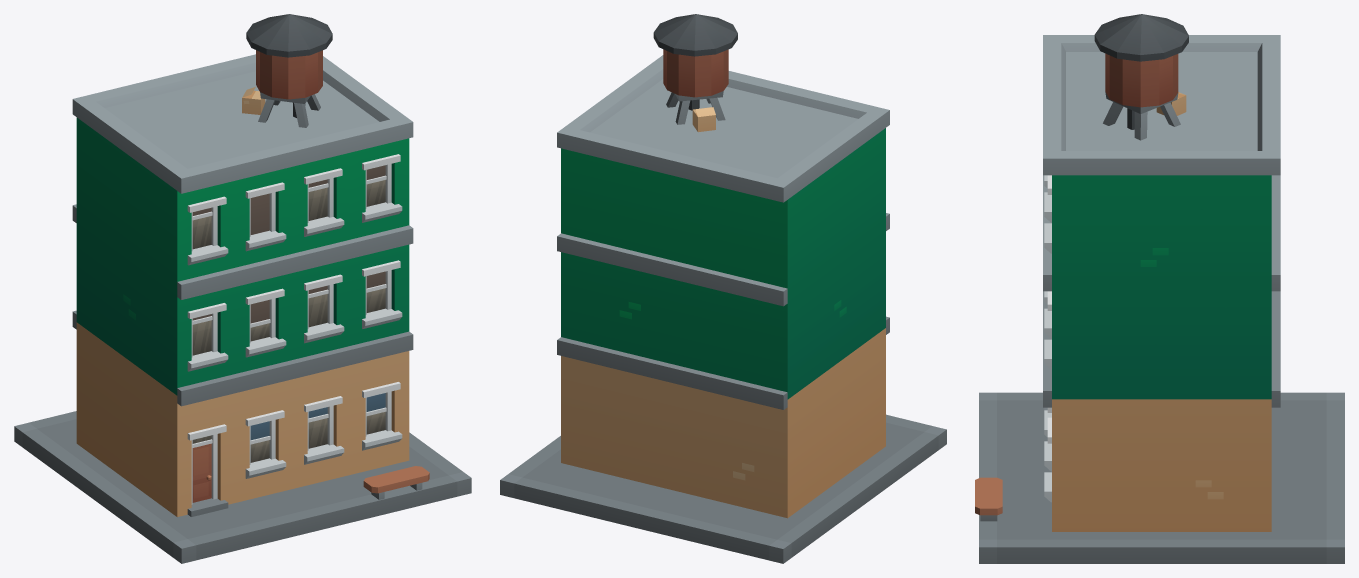
File: building_D.obj
The picture shows the model from 3 angles, left to right: view 1: azimuth 30°, elevation 25°; view 2: azimuth 150°, elevation 25°; view 3: azimuth 270°, elevation 25°; orthographic projection. The views are drawn at different scales.
Size of the model in its own units: 2 by 2.97 by 2.02.
1 material, 1 textured.
